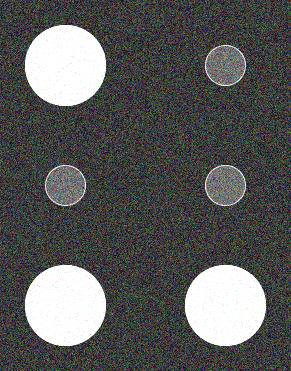U: (19, 18, 271, 354)
